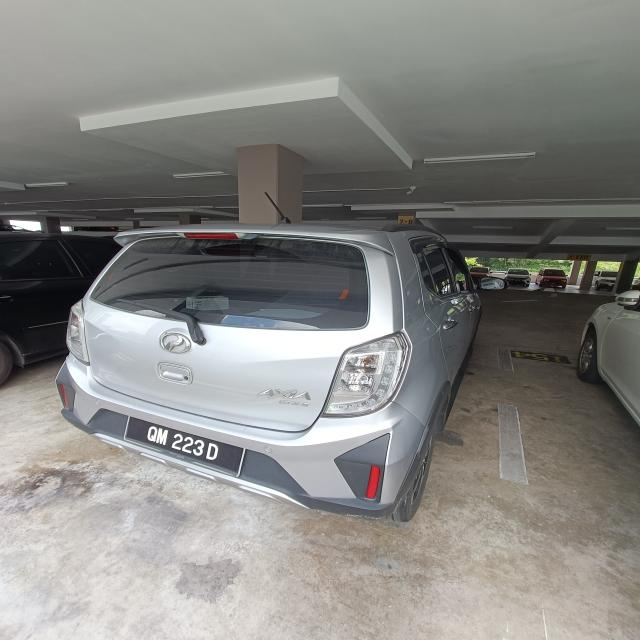PeroduaAxia: (54, 219, 484, 525)
